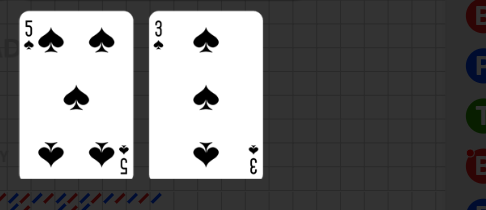3S: (246, 142, 260, 175)
5S: (23, 19, 35, 53)
